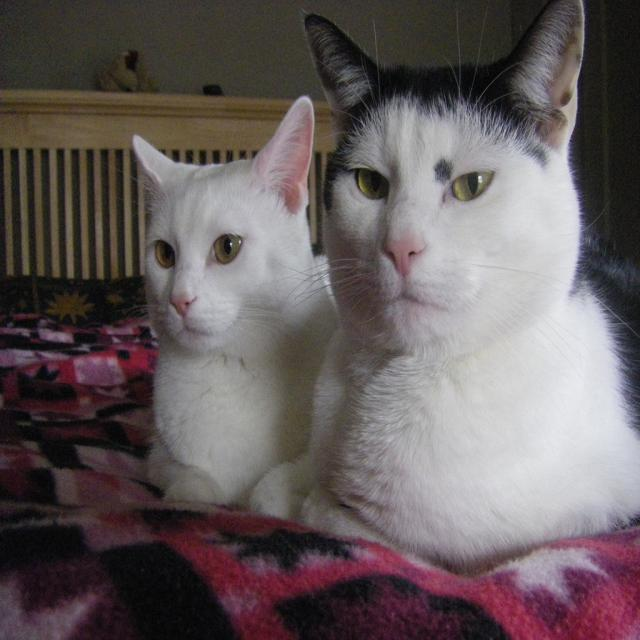Cat: (246, 0, 640, 577), (103, 93, 338, 506)
